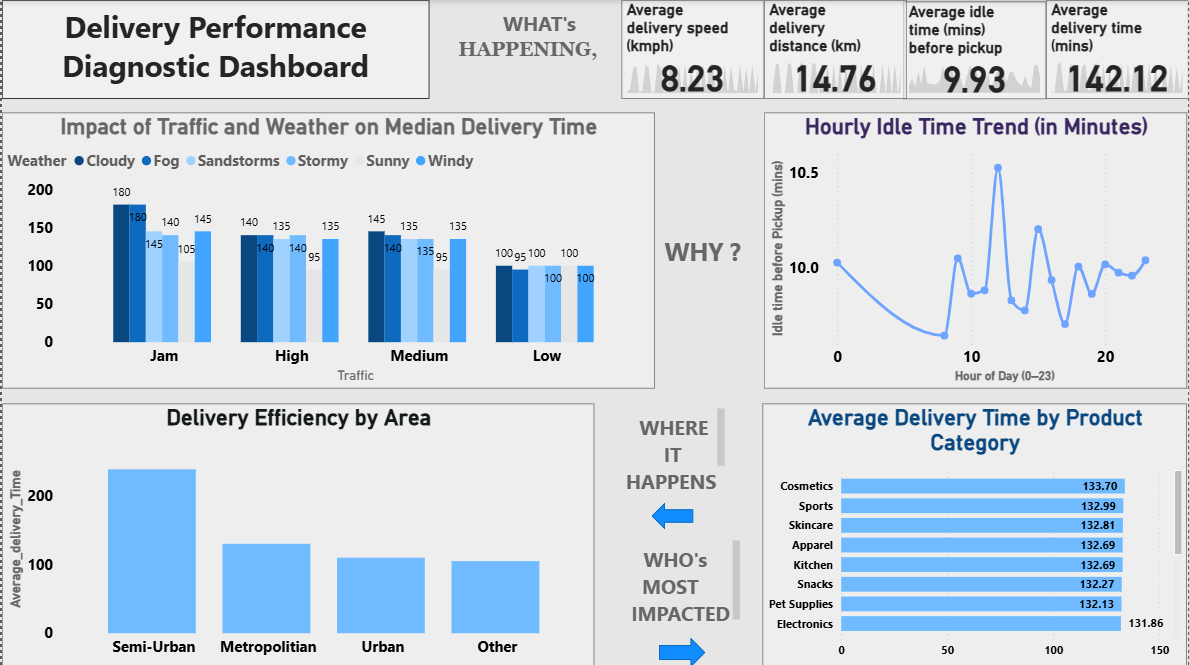

The page's visual inventory and layout, read from the dashboard file:
{"tool":"powerbi","page":{"name":"Page 1","canvas":[1280,720],"ordinal":0},"visuals":[{"type":"clusteredColumnChart","title":"Impact of Traffic and Weather on Median Delivery Time","fields":{"Y":["Median(NEW_DATA.Delivery_Duration_mins)"],"Category":["NEW_DATA.Traffic"],"Series":["NEW_DATA.Weather"]},"box":[0,121.4,704.4,297.9],"z":0},{"type":"columnChart","title":"Delivery Efficiency by Area","fields":{"Category":["NEW_DATA.Area"],"Y":["Avg(NEW_DATA.Delivery_Duration_mins)"]},"box":[0,435.6,639.6,285],"z":1000},{"type":"lineChart","title":"Hourly Idle Time Trend (in Minutes)","fields":{"Y":["Avg(NEW_DATA.Idle_time_before_pickup)"],"Category":["NEW_DATA.HourOfDay"]},"box":[822.6,121.4,456.6,297.9],"z":2000},{"type":"clusteredBarChart","title":"Average Delivery Time by Product Category","fields":{"Y":["Avg(NEW_DATA.Delivery_Duration_mins)"],"Category":["NEW_DATA.Category"]},"box":[820.9,435.6,458.2,285],"z":3000},{"type":"kpi","title":"Average delivery time (mins)","fields":{"TrendLine":["NEW_DATA.Order_date"],"Indicator":["Avg(NEW_DATA.Delivery_Duration_mins)"]},"box":[1127,0,153.8,106.9],"z":4000},{"type":"kpi","title":"Average idle time (mins) before pickup","fields":{"TrendLine":["NEW_DATA.Order_date"],"Indicator":["Avg(NEW_DATA.Idle_time_before_pickup)"]},"box":[973.2,1.6,153.8,105.2],"z":5000},{"type":"kpi","title":"Average delivery distance (km)","fields":{"TrendLine":["NEW_DATA.Order_date"],"Indicator":["Avg(NEW_DATA.Distance)"]},"box":[822.6,0,153.8,106.9],"z":6000},{"type":"kpi","title":"Average delivery speed (kmph)","fields":{"TrendLine":["NEW_DATA.Order_date"],"Indicator":["Avg(NEW_DATA.Speed)"]},"box":[668.7,0,153.8,106.9],"z":7000},{"type":"textbox","box":[0,0,461.5,106.9],"z":8000},{"type":"textbox","box":[702.7,247.7,118.2,63.1],"z":9000},{"type":"textbox","box":[668.7,578.1,132.8,111.7],"z":10000},{"type":"textbox","box":[668.7,435.6,116.6,106.9],"z":11000},{"type":"textbox","box":[487.4,0,170,89.1],"z":12000},{"type":"shape","box":[701.1,542.4,45.3,29.1],"z":13000},{"type":"shape","box":[709.2,688.2,50.2,32.4],"z":14000}]}

Visuals, with their boxes in screenshot pixels (x1, y1, x2, y2), scaled from the page's 1280x720 canvas onto the 1189x665 screenshot:
"Impact of Traffic and Weather on Median Delivery Time" clusteredColumnChart: (0, 112, 654, 387)
"Delivery Efficiency by Area" columnChart: (0, 402, 594, 664)
"Hourly Idle Time Trend (in Minutes)" lineChart: (764, 112, 1188, 387)
"Average Delivery Time by Product Category" clusteredBarChart: (763, 402, 1188, 664)
"Average delivery time (mins)" kpi: (1047, 0, 1188, 99)
"Average idle time (mins) before pickup" kpi: (904, 1, 1047, 99)
"Average delivery distance (km)" kpi: (764, 0, 907, 99)
"Average delivery speed (kmph)" kpi: (621, 0, 764, 99)
textbox: (0, 0, 429, 99)
textbox: (653, 229, 763, 287)
textbox: (621, 534, 745, 637)
textbox: (621, 402, 729, 501)
textbox: (453, 0, 611, 82)
shape: (651, 501, 693, 528)
shape: (659, 636, 705, 664)
